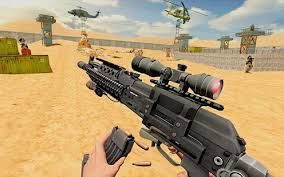gun: (75, 54, 274, 174)
